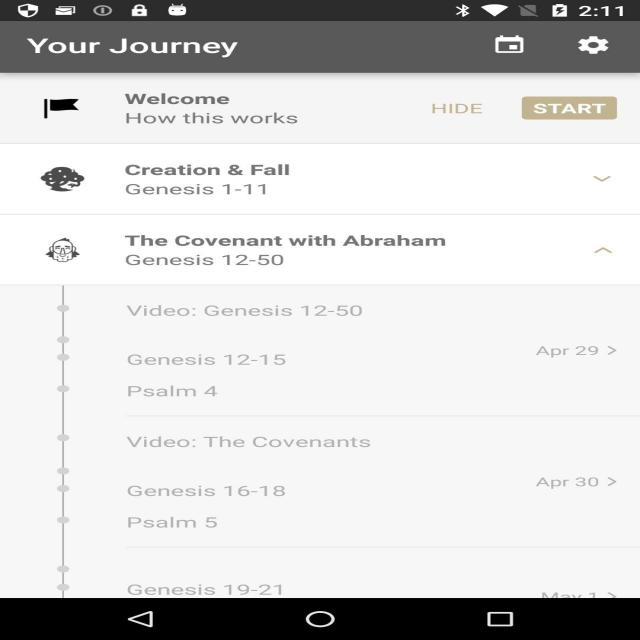text: (120, 154, 512, 274), (110, 64, 453, 165)
